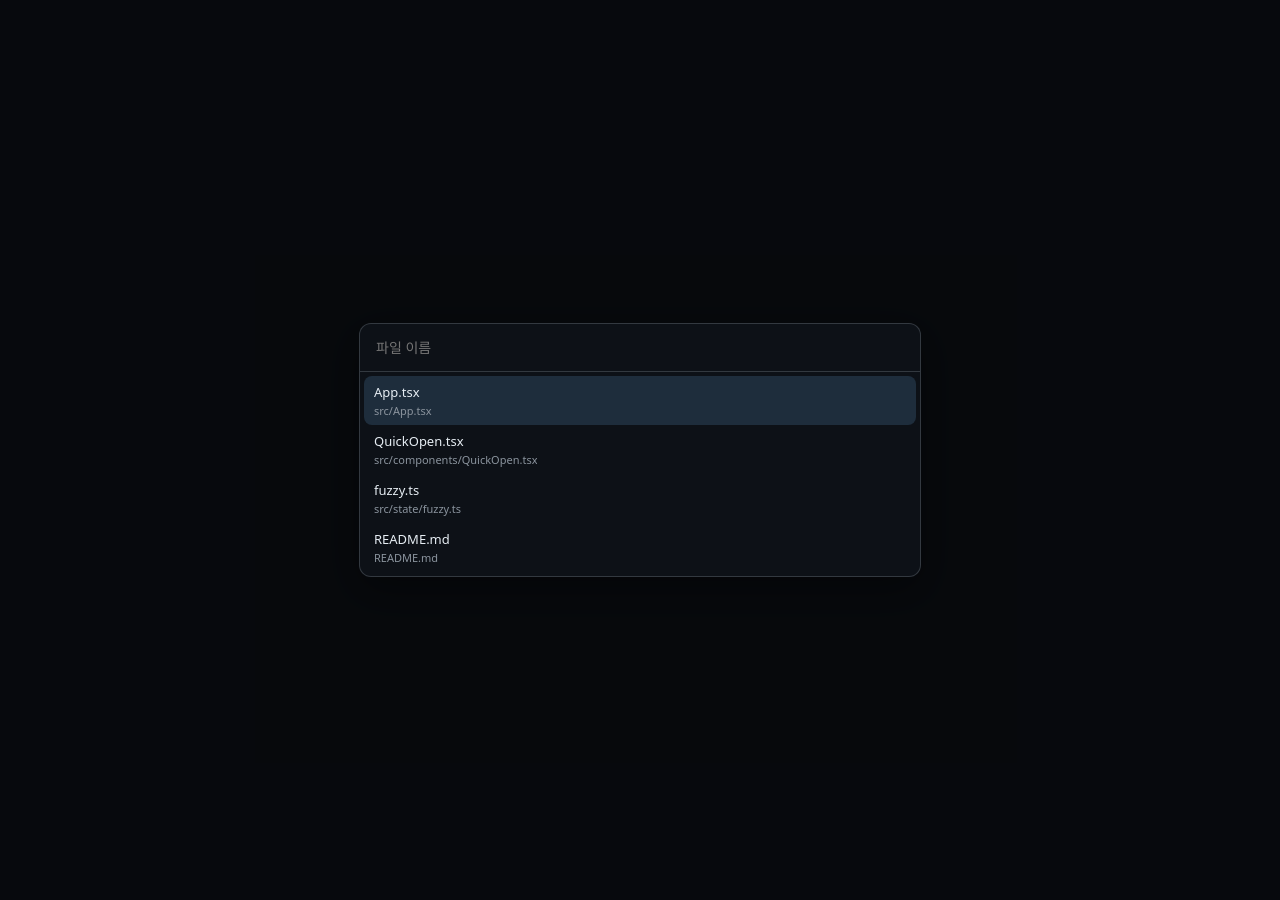
Scenario: QuickOpen — 퍼지 필터 › 맞는 게 없으면 안내를 보인다
The width and height of the screenshot is (1280, 900).
Expected: the text "App.tsx" is shown, x1=374 y1=383 x2=420 y2=401
Type "zzzzz" into the field labelled "파일 이름".
click(640, 348); type("zzzzz")  # box x1=360 y1=324 x2=920 y2=372
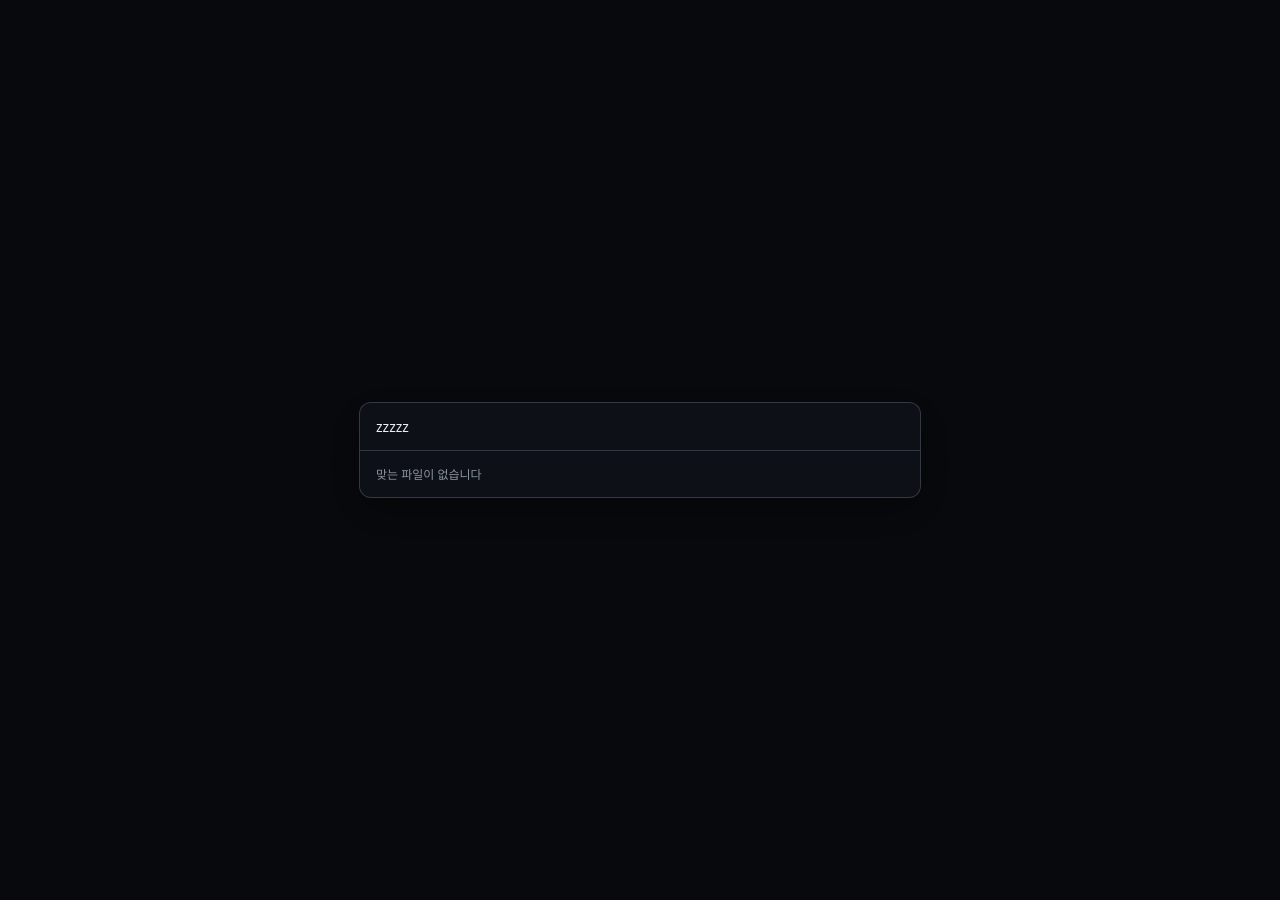
Result: the text "맞는 파일이 없습니다" is shown at x1=376 y1=466 x2=482 y2=483
